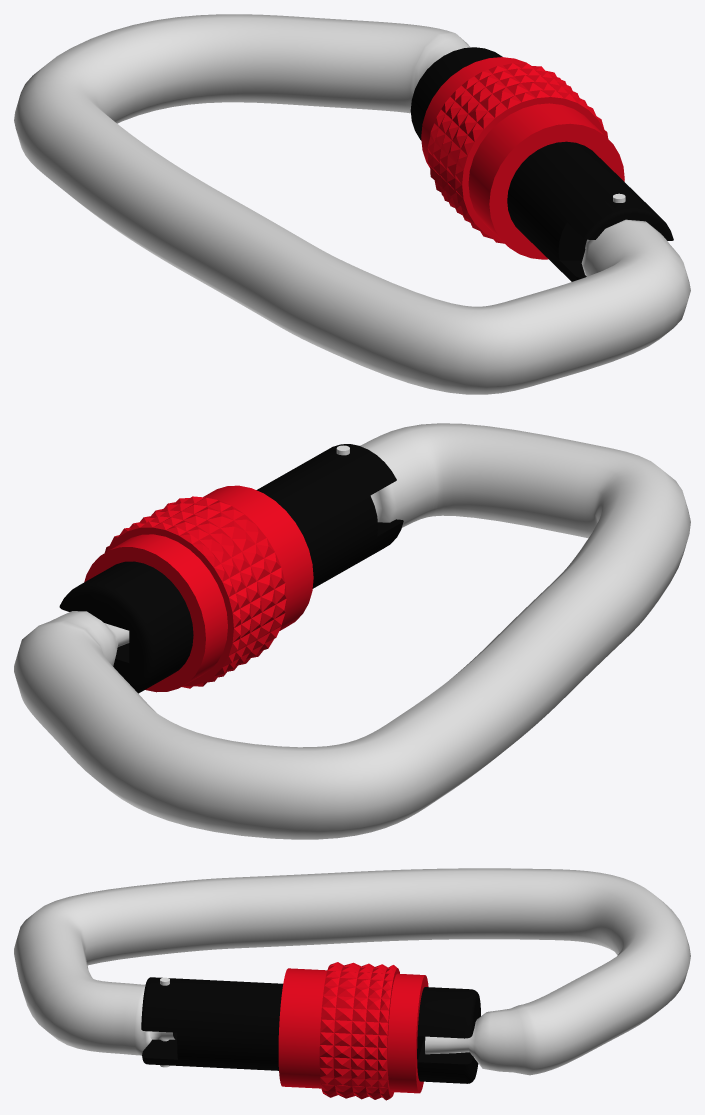
File: carabiner.fbx
3 renders of one model, top to bottom at view 1: azimuth 30°, elevation 25°; view 2: azimuth 150°, elevation 25°; view 3: azimuth 270°, elevation 25°, orthographic. The views are drawn at different scales.
Parts seen in each view (by area): view 1: BézierCurve, Cylinder; view 2: BézierCurve, Cylinder; view 3: BézierCurve, Cylinder.
Part boxes in pixels (left/top/right/bottom): BézierCurve: left=14, top=14, right=690, bottom=394; Cylinder: left=410, top=47, right=673, bottom=281; BézierCurve: left=14, top=423, right=690, bottom=839; Cylinder: left=59, top=444, right=403, bottom=693; BézierCurve: left=14, top=868, right=690, bottom=1075; Cylinder: left=141, top=962, right=480, bottom=1100.
Bounding box in the file's own units: 229 × 76.3 × 381.
